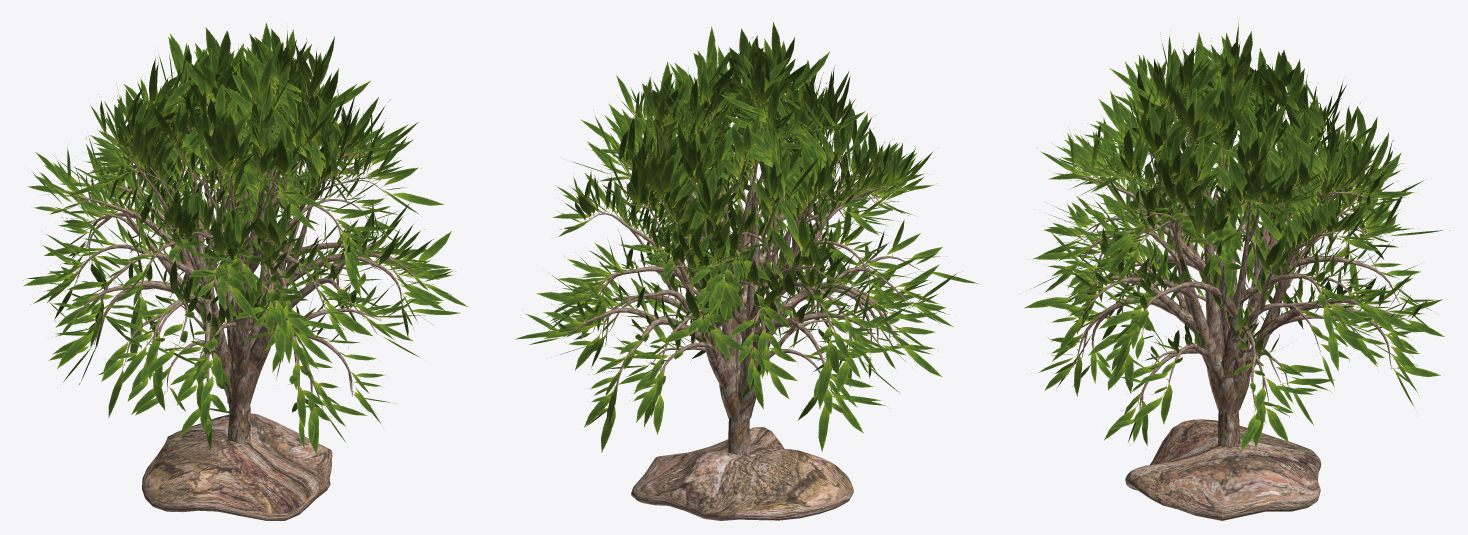
Rendered from tree1.fbx.
The picture shows the model from 3 angles, left to right: view 1: azimuth 30°, elevation 25°; view 2: azimuth 150°, elevation 25°; view 3: azimuth 270°, elevation 25°; orthographic projection.
Visible parts, largest first — view 1: leaves, tree, Cube; view 2: leaves, tree, Cube; view 3: leaves, tree, Cube.
Part boxes in pixels (x1,y1,x2,y2): leaves: (23,23,468,454); tree: (64,83,413,443); Cube: (142,413,332,520); leaves: (514,22,978,452); tree: (564,81,919,455); Cube: (631,426,853,520); leaves: (1024,18,1449,451); tree: (1075,78,1407,447); Cube: (1125,419,1321,520).
Bounding box in the file's own units: 319 × 395 × 339.
